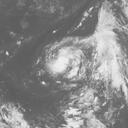cyclone: (43, 37, 95, 86)
